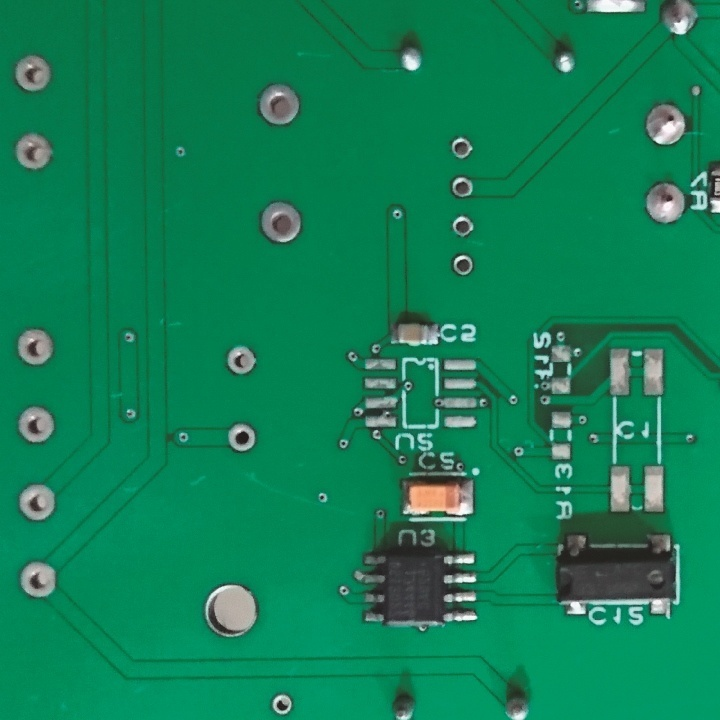F: (257, 77, 304, 128), (644, 98, 690, 149), (259, 198, 305, 246), (644, 180, 687, 228), (11, 52, 54, 98), (14, 326, 56, 369), (13, 129, 53, 173), (19, 558, 60, 600), (15, 406, 57, 446), (15, 483, 56, 523), (225, 341, 259, 378), (227, 419, 259, 455), (448, 135, 475, 159), (448, 174, 473, 198), (450, 214, 475, 238), (271, 692, 296, 715), (451, 255, 476, 277)
